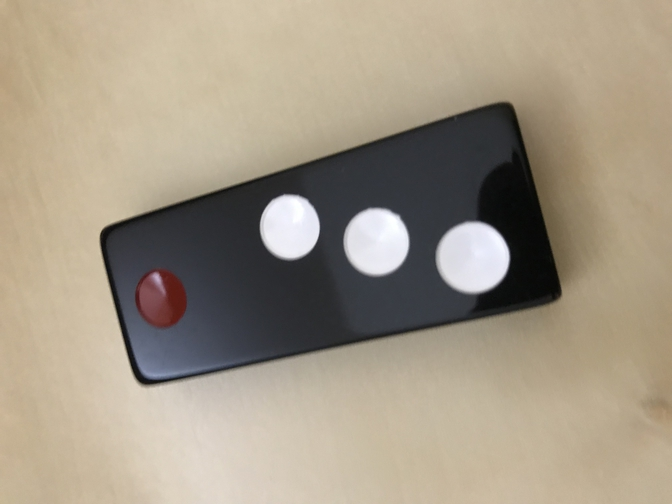goose: (100, 102, 563, 387)
